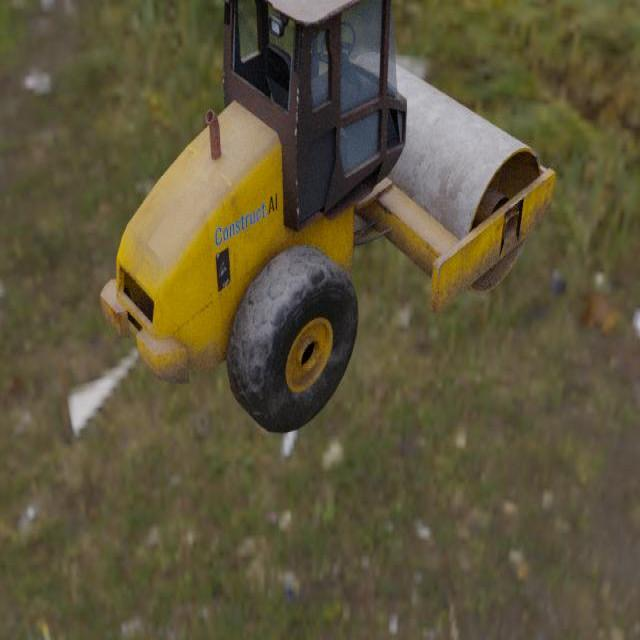Roller: (99, 0, 556, 435)
